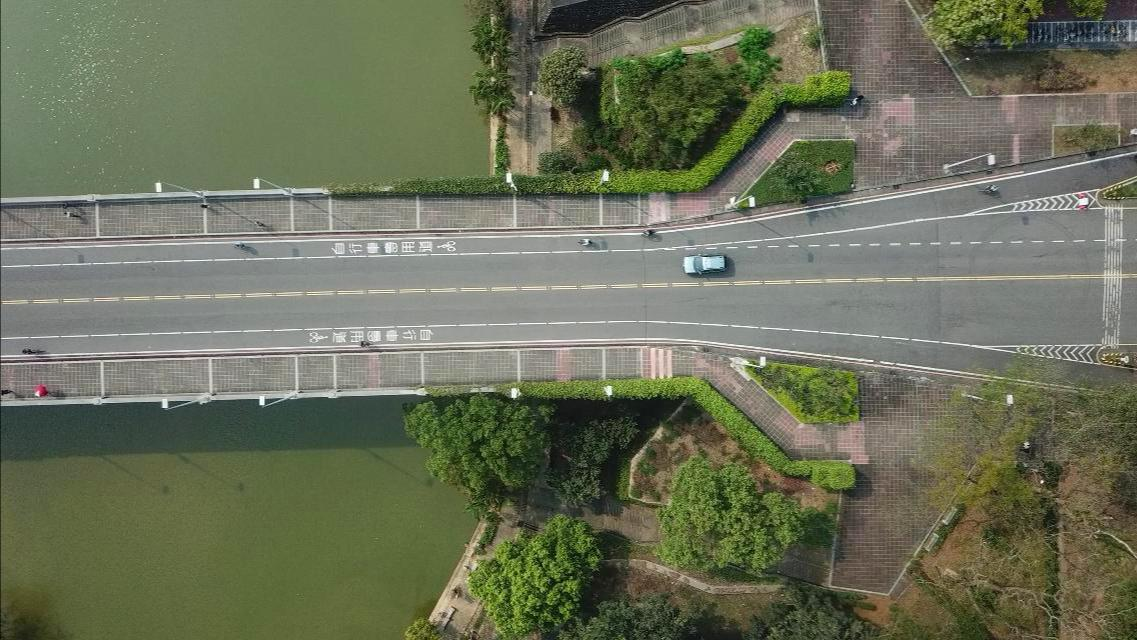vehicle: (682, 253, 727, 275)
